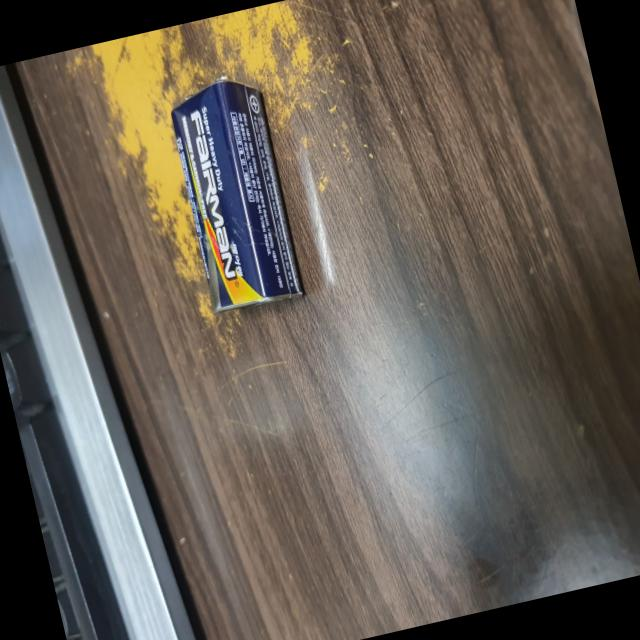battery-etc-etc: (153, 61, 307, 322)
